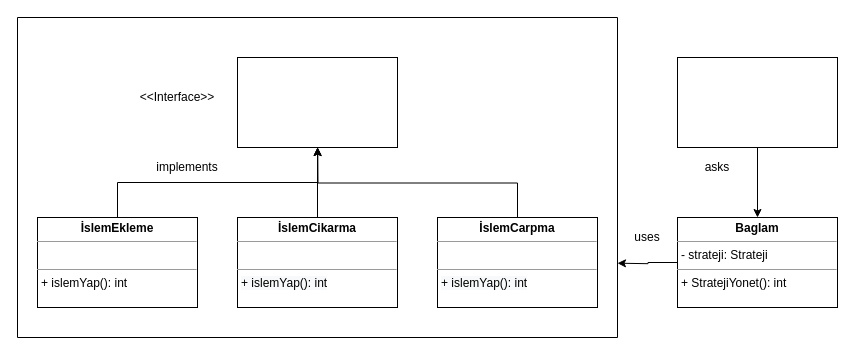
This 855x356 diagram has some shape labels left out. Each missing label, with the centre of its shape:
"Strateji + islemYap(): int" belongs at point (317, 102).
"StratejiDesign + main(): void" belongs at point (757, 102).
